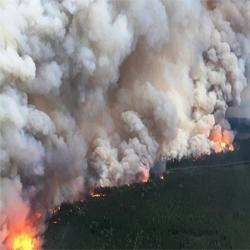fire: (13, 231, 40, 250)
smoke: (14, 14, 176, 117)
